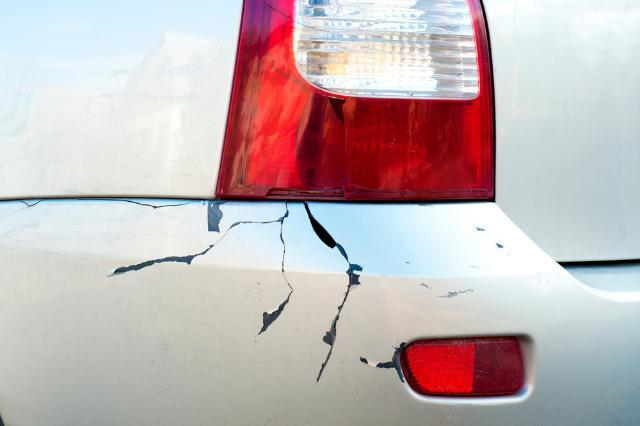crack: (113, 203, 295, 336), (302, 204, 353, 385), (76, 198, 200, 210)
lamp broken: (216, 0, 496, 204)
